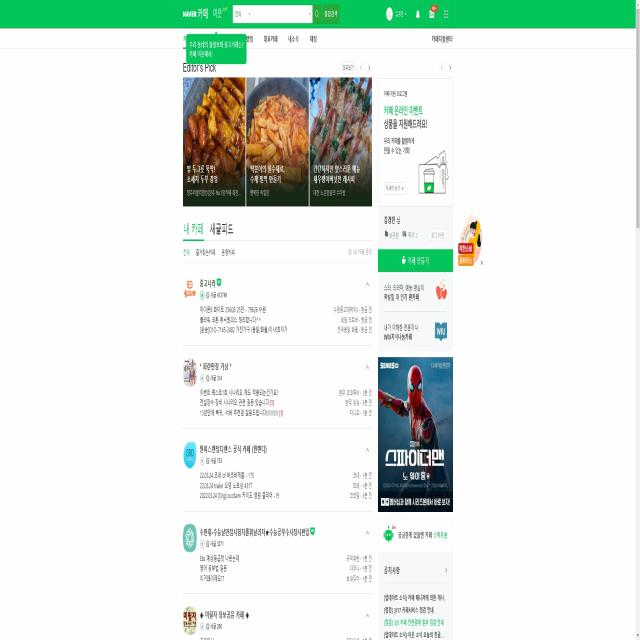search: (230, 1, 322, 25)
side-panel: (376, 71, 460, 640)
tab-bar: (180, 26, 320, 48), (182, 245, 240, 258)
